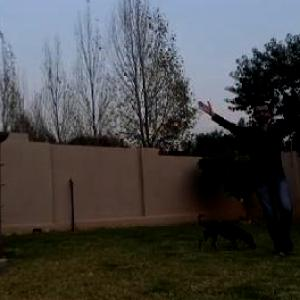takeoff: (195, 85, 300, 268)
